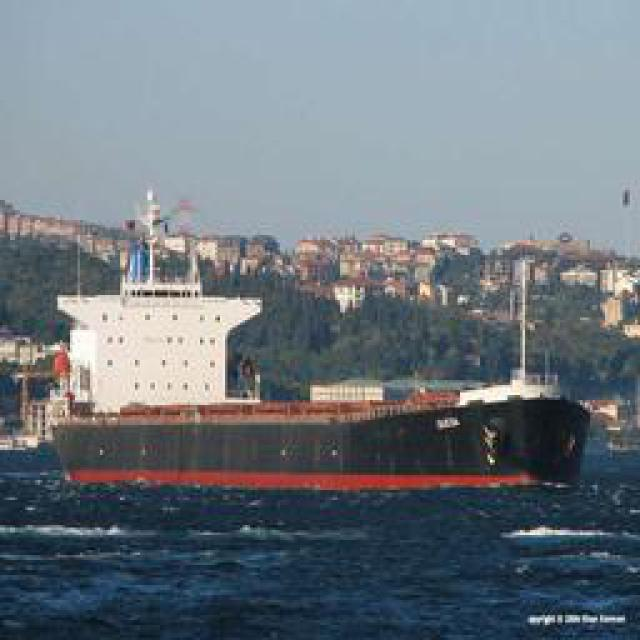Ship: (60, 270, 608, 495)
